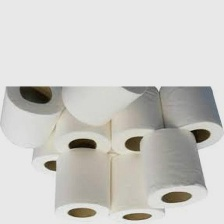tissue: (135, 126, 209, 212), (51, 145, 113, 224), (109, 149, 168, 223), (158, 86, 224, 152), (0, 86, 68, 150), (110, 86, 166, 157), (60, 86, 150, 129), (56, 106, 113, 159), (29, 142, 74, 178)
